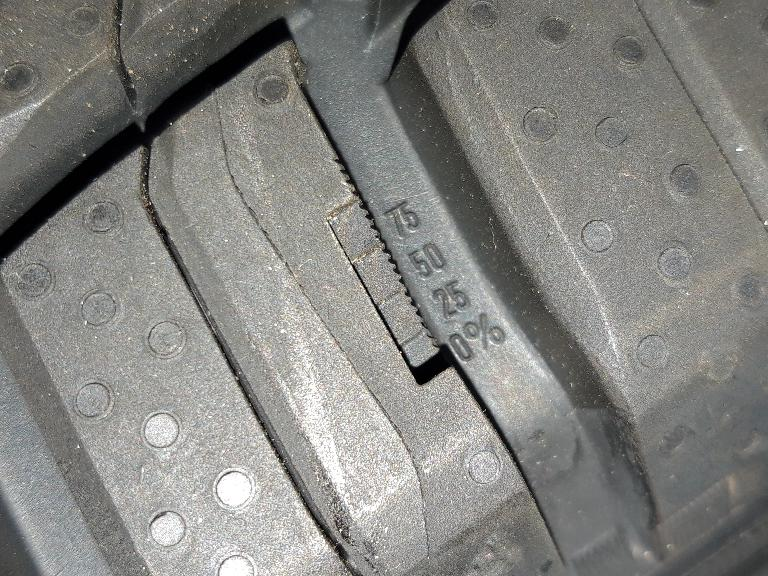temoin:100: (318, 150, 463, 394)
